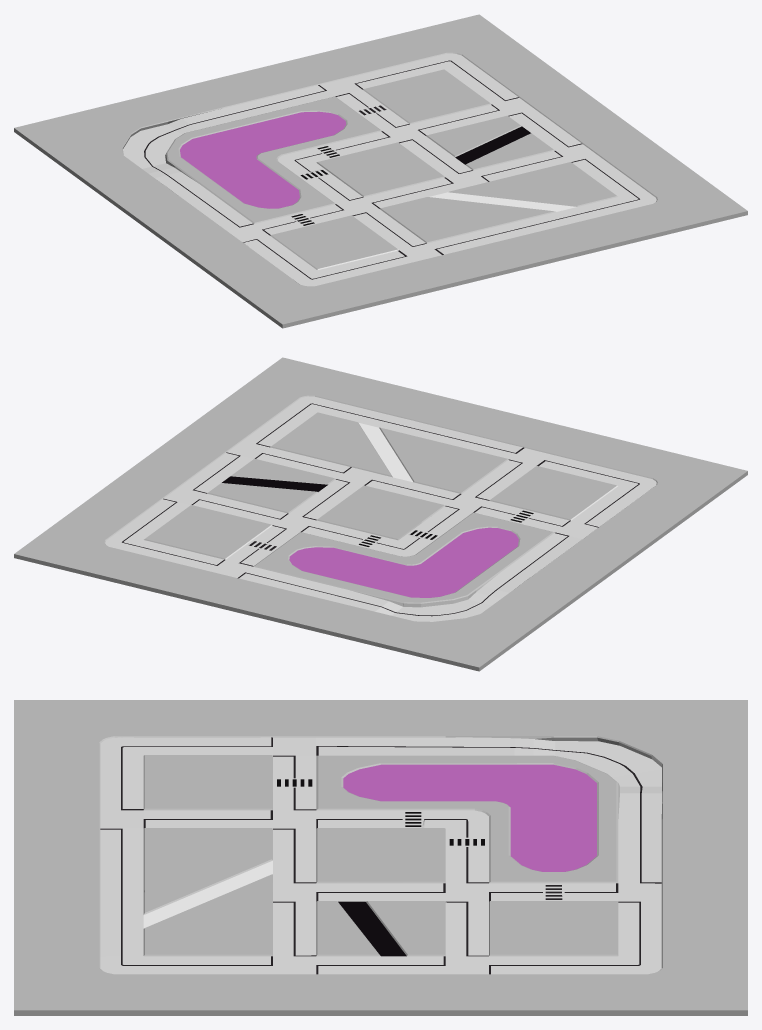
Rendered from city.fbx.
3 views of the same model, one above another, from view 1: azimuth 30°, elevation 25°; view 2: azimuth 150°, elevation 25°; view 3: azimuth 270°, elevation 25° (orthographic). The views are drawn at different scales.
Visible parts, largest first — view 1: city; view 2: city; view 3: city.
Boxes of the visible parts, bbox=[...] form: city: bbox=[14, 14, 747, 328]; city: bbox=[14, 357, 747, 671]; city: bbox=[14, 700, 747, 1015].
Size of the model in its own units: 23000 by 203 by 23000.
